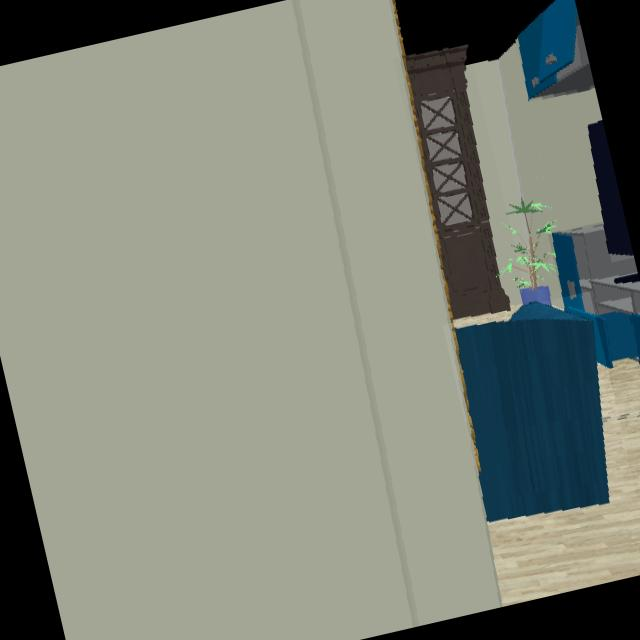bookshelf: (405, 44, 510, 320)
cabinet: (551, 225, 640, 369), (518, 0, 594, 100)
monitor: (587, 120, 634, 257)
sofa: (456, 304, 611, 522)
